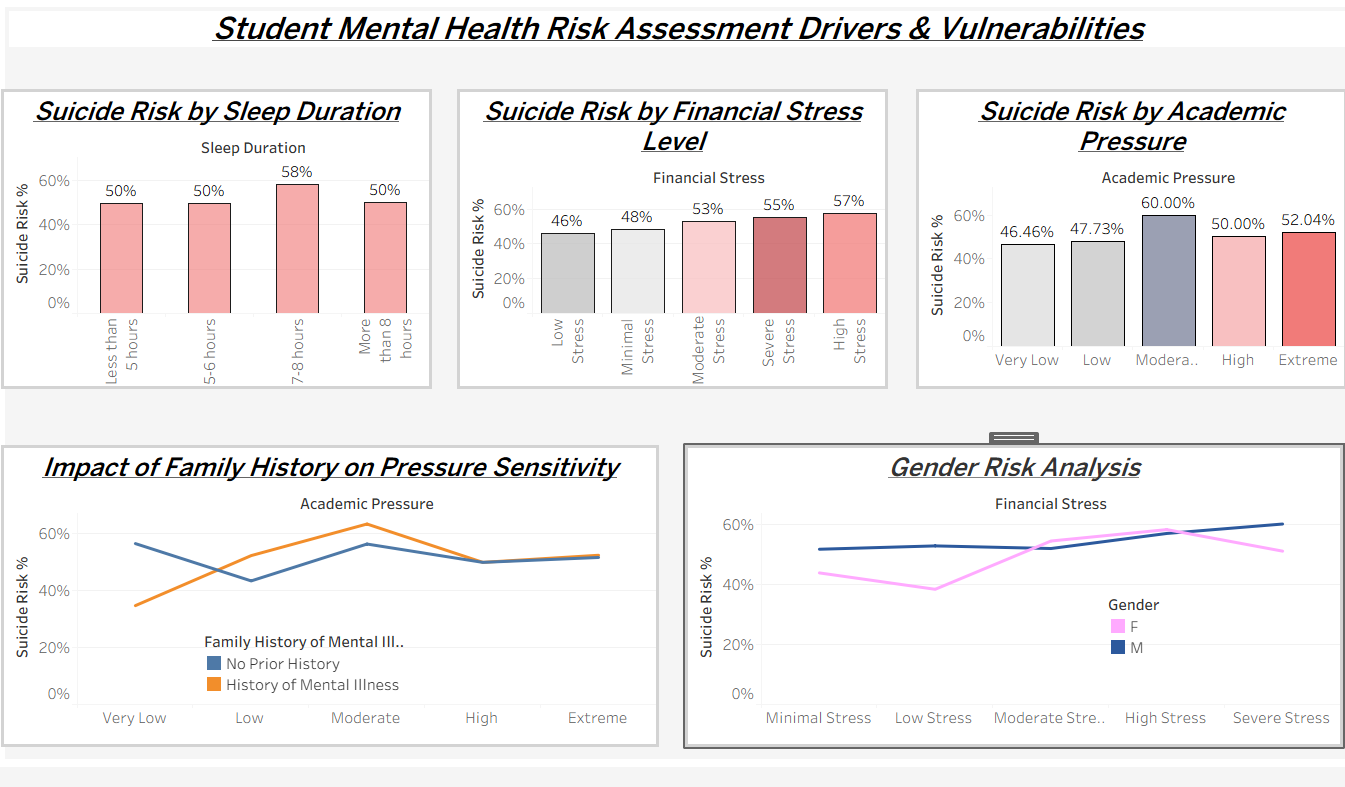

The page's visual inventory and layout, read from the dashboard file:
{"tool":"tableau","page":{"name":"Dashboard 2","canvas":[1366,768],"ordinal":1},"visuals":[{"type":"title","box":[8,8,1350,44]},{"type":"worksheet","title":"Risk Analysis","mark":"Bar","rows":["Calculation_586030910157340672"],"cols":["Sleep_Duration"],"box":[4,90,431,300]},{"type":"worksheet","title":"FS Risk Analysis","mark":"Automatic","rows":["Calculation_586030910157340672"],"cols":["Financial_Stress"],"box":[460,90,431,300]},{"type":"worksheet","title":"AP Risk Analysis","mark":"Automatic","rows":["Calculation_586030910157340672"],"cols":["Academic_Pressure"],"box":[919,90,431,300]},{"type":"worksheet","title":"FH Risk Analysis","mark":"Line","rows":["Calculation_586030910157340672"],"cols":["Academic_Pressure"],"box":[4,446,658,302]},{"type":"worksheet","title":"Gender Risk Analysis","mark":"Line","rows":["Calculation_586030910157340672"],"cols":["Financial_Stress"],"box":[688,446,658,302]},{"type":"legend","title":"Gender Risk Analysis","param":"[federated.0z0ysgo1xgpc3715xj4h201pkmy0].[none:Gender:nk]","box":[1111,595,140,64]},{"type":"legend","title":"FH Risk Analysis","param":"[federated.0z0ysgo1xgpc3715xj4h201pkmy0].[none:Family_History_of_Mental_Illness:","box":[207,632,201,64]}]}

Visuals, with their boxes on the page's 1366x768 design canvas (x1, y1, x2, y2). These are canvas units, not pixel positions in the 1345x787 screenshot, which may show the page scaled, cropped or inside an application window:
title: (x1=8, y1=8, x2=1358, y2=52)
"Risk Analysis" worksheet (Bar marks): (x1=4, y1=90, x2=435, y2=390)
"FS Risk Analysis" worksheet: (x1=460, y1=90, x2=891, y2=390)
"AP Risk Analysis" worksheet: (x1=919, y1=90, x2=1350, y2=390)
"FH Risk Analysis" worksheet (Line marks): (x1=4, y1=446, x2=662, y2=748)
"Gender Risk Analysis" worksheet (Line marks): (x1=688, y1=446, x2=1346, y2=748)
"Gender Risk Analysis" legend: (x1=1111, y1=595, x2=1251, y2=659)
"FH Risk Analysis" legend: (x1=207, y1=632, x2=408, y2=696)
